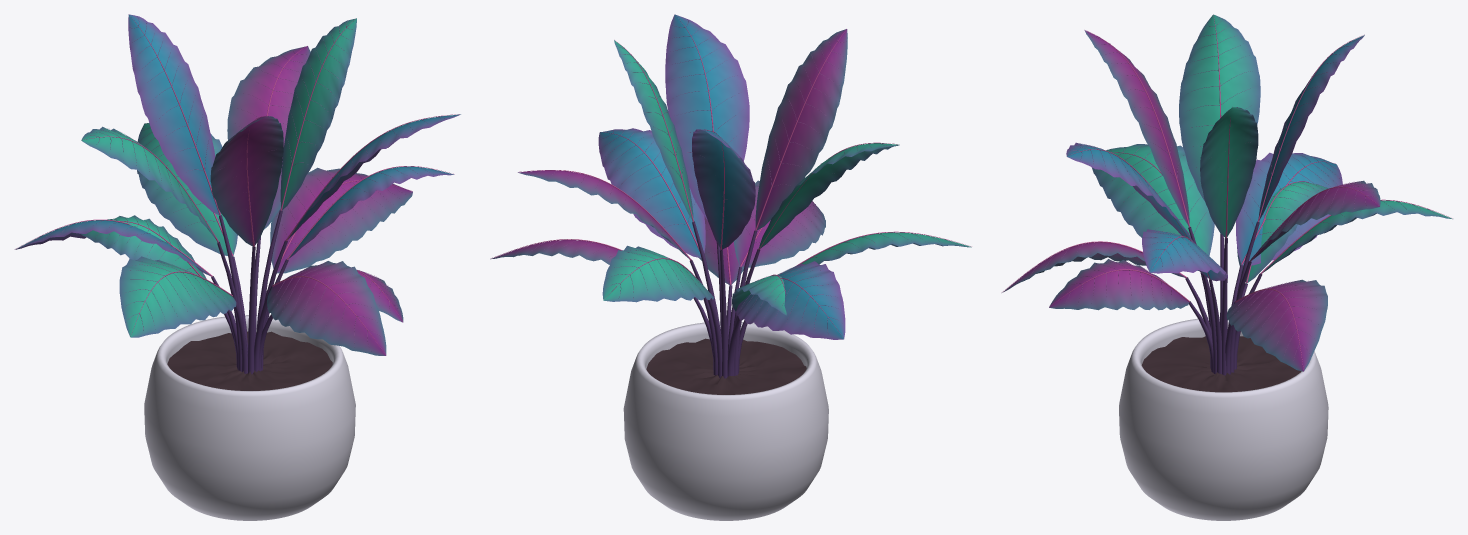
File: arkade-interior-planter.glb
The picture shows the model from 3 angles, left to right: view 1: azimuth 30°, elevation 25°; view 2: azimuth 150°, elevation 25°; view 3: azimuth 270°, elevation 25°; orthographic projection. The views are drawn at different scales.
Visible parts, largest first — view 1: Teal and purple foliage, Rounded lavender pot, Textured potting soil, Violet stems, Magenta midribs, Fine leaf veins; view 2: Teal and purple foliage, Rounded lavender pot, Textured potting soil, Violet stems, Magenta midribs, Fine leaf veins; view 3: Teal and purple foliage, Rounded lavender pot, Textured potting soil, Violet stems, Magenta midribs, Fine leaf veins.
Part boxes in pixels (x1,y1,x2,y2): Teal and purple foliage: [15, 14, 460, 355]; Rounded lavender pot: [144, 315, 355, 520]; Textured potting soil: [167, 331, 332, 390]; Violet stems: [211, 210, 288, 374]; Magenta midribs: [16, 14, 459, 354]; Fine leaf veins: [33, 18, 445, 347]; Teal and purple foliage: [490, 14, 971, 339]; Rounded lavender pot: [623, 321, 828, 520]; Textured potting soil: [646, 338, 806, 394]; Violet stems: [689, 221, 760, 378]; Magenta midribs: [490, 16, 971, 338]; Fine leaf veins: [503, 20, 954, 333]; Teal and purple foliage: [1002, 14, 1452, 371]; Rounded lavender pot: [1119, 317, 1328, 520]; Textured potting soil: [1141, 336, 1301, 392]; Violet stems: [1185, 222, 1262, 375]; Magenta midribs: [1001, 15, 1452, 369]; Fine leaf veins: [1017, 19, 1437, 360].
Bounding box in the file's own units: 1.43 × 1.57 × 1.45.
